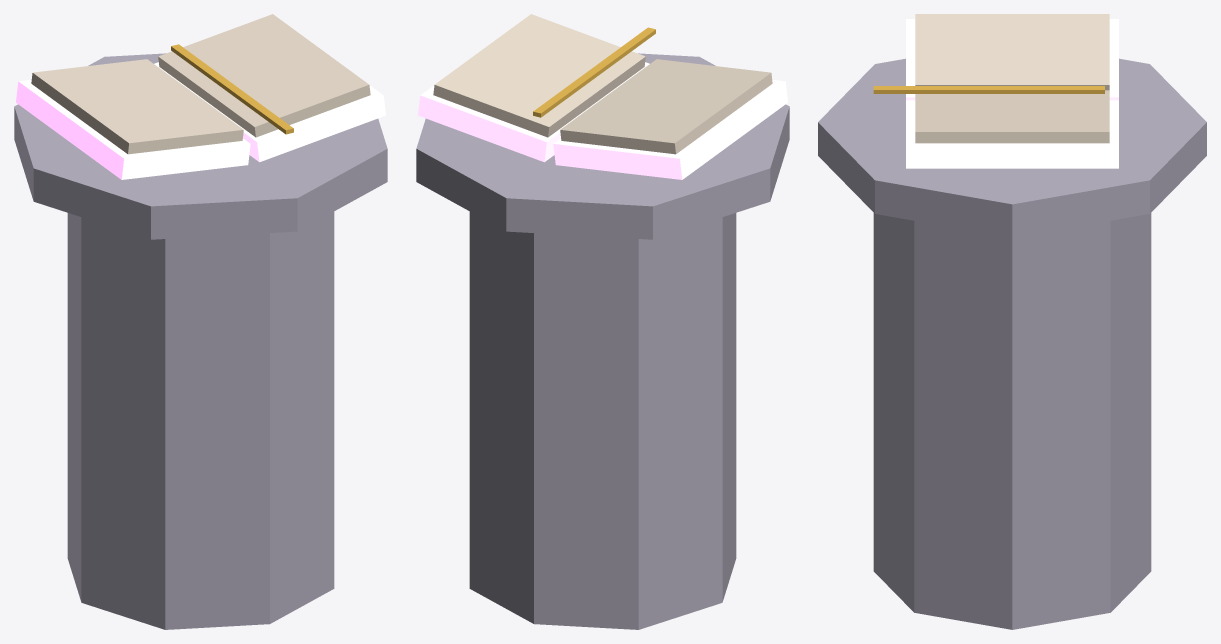
The model's file is diary.glb.
The picture shows the model from 3 angles, left to right: view 1: azimuth 30°, elevation 25°; view 2: azimuth 150°, elevation 25°; view 3: azimuth 270°, elevation 25°; orthographic projection.
Parts seen in each view (by area): view 1: diary; view 2: diary; view 3: diary.
Part boxes in pixels (x1=…): diary: x1=14, y1=14, x2=387, y2=629; diary: x1=416, y1=14, x2=789, y2=629; diary: x1=818, y1=14, x2=1206, y2=629.
Bounding box in the file's own units: 0.84 × 1.19 × 0.84.
